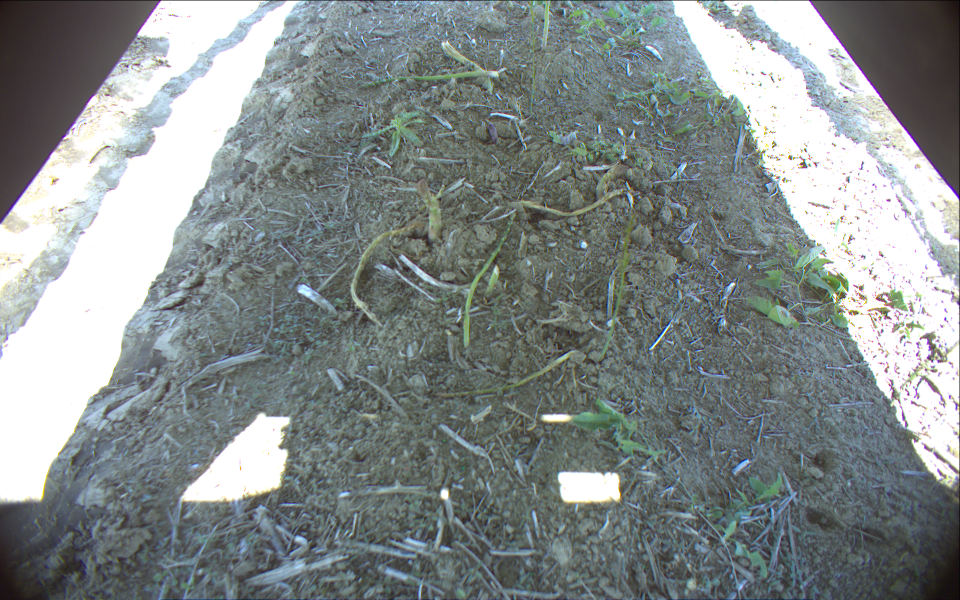aspa: (408, 175, 444, 247), (537, 1, 554, 53)
